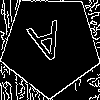A: (25, 20, 70, 73)
